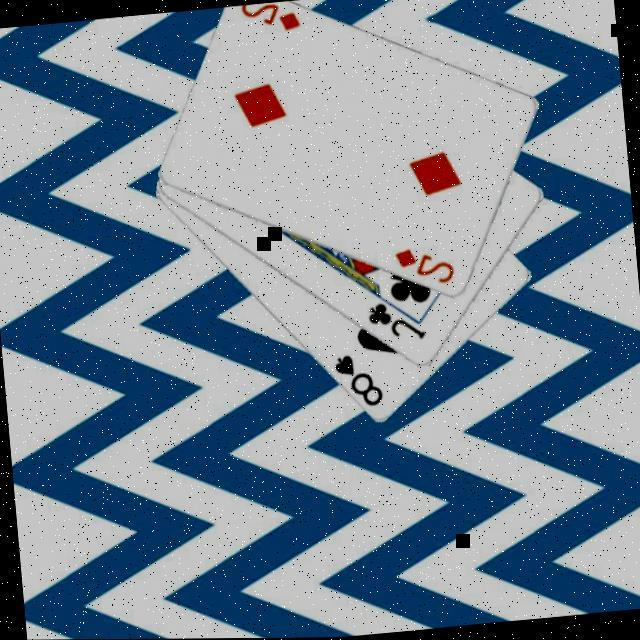2D: (392, 243, 460, 292), (238, 0, 306, 39)
8S: (331, 350, 388, 414)
JC: (365, 297, 431, 348)
